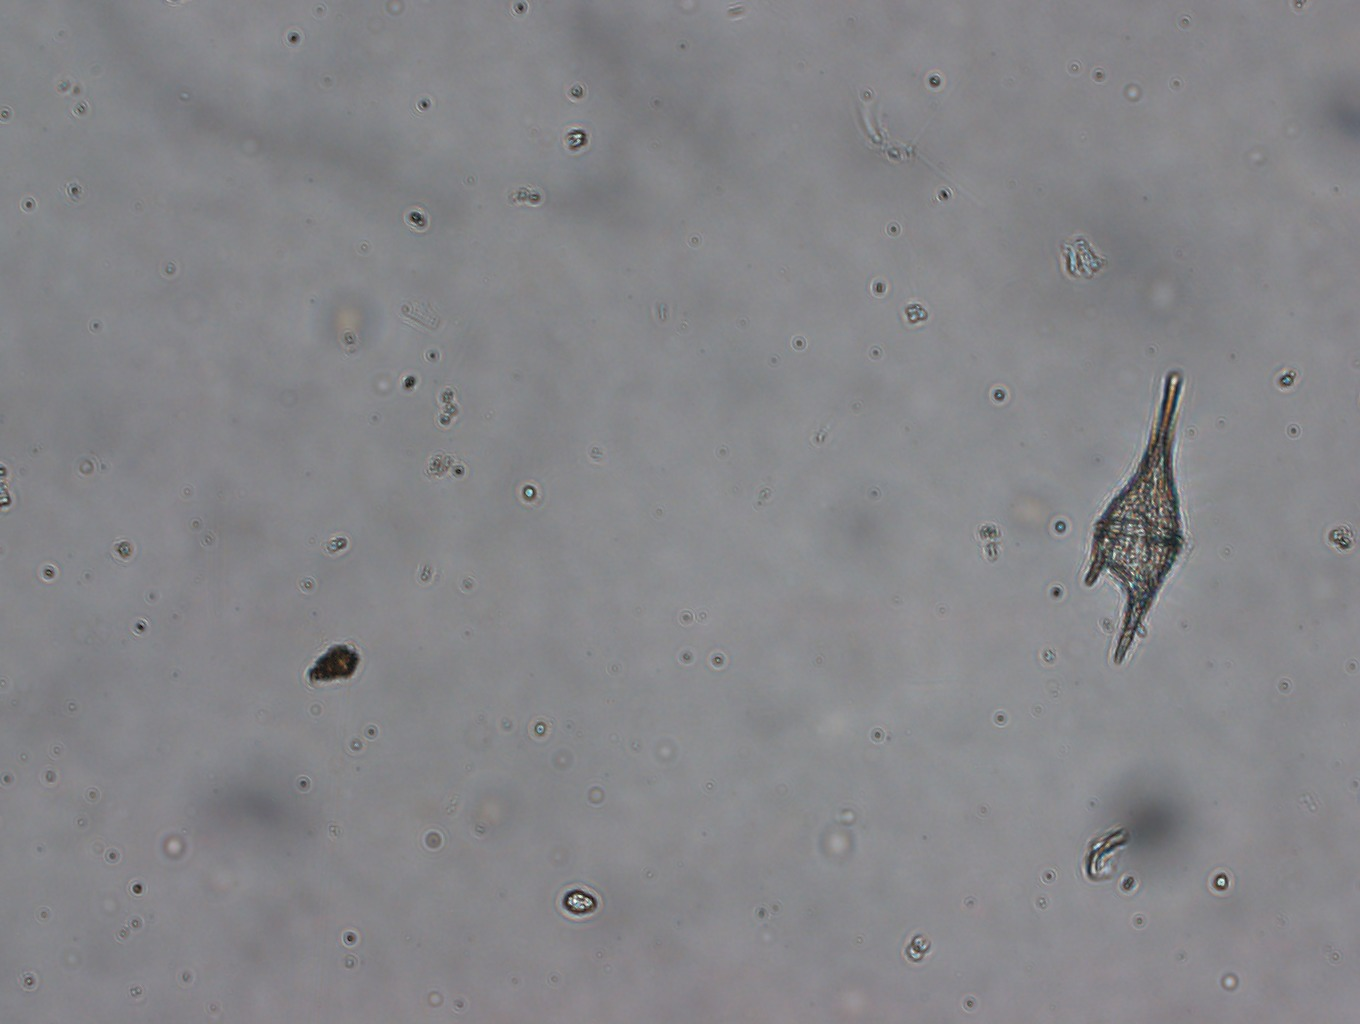ceratium furca: (1065, 362, 1198, 669)
